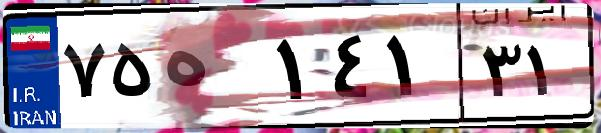1: (270, 28, 330, 110), (385, 28, 445, 110), (525, 38, 570, 115)
3: (475, 38, 525, 113)
4: (330, 28, 385, 110)
5: (110, 28, 158, 98)
7: (57, 26, 110, 100)
ه: (158, 20, 270, 120)
